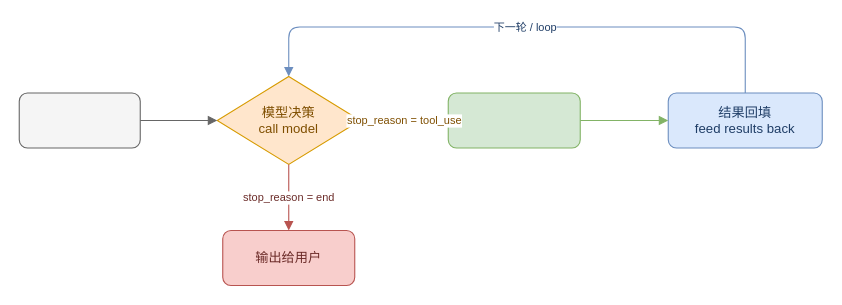
The diagram is 842 pixels wide and 305 high, and some of its shapes have lost their labels. The box of each missing label's shape, as (x1, y1, x2, y2) in pixels:
执行工具 run tools: (447, 92, 580, 148)
用户输入: (18, 92, 140, 148)
